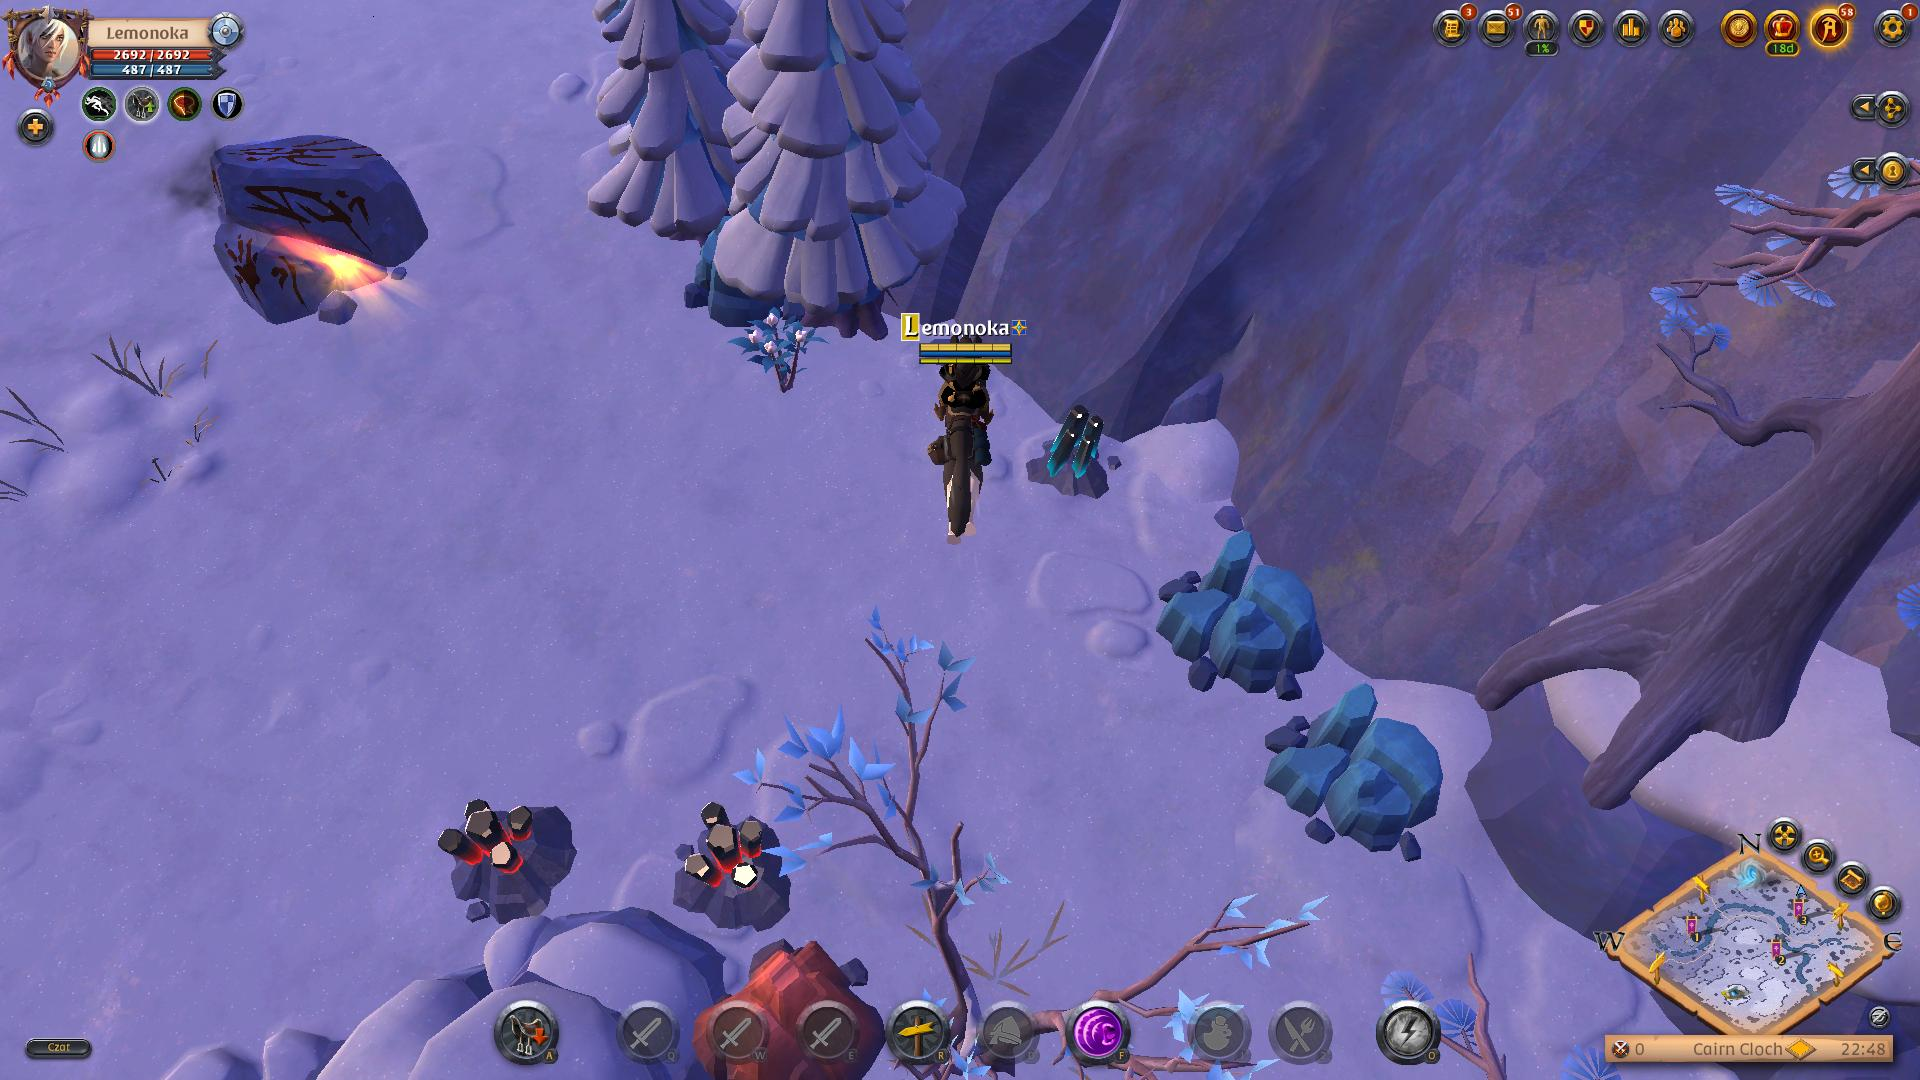fiber tier 4: (735, 310, 822, 393)
ore tier 4: (1040, 405, 1118, 506)
ore tier 5: (423, 799, 580, 920), (670, 803, 794, 928)
rock tier 4: (1262, 684, 1447, 852), (1156, 530, 1327, 699)
rock tier 5: (711, 935, 865, 1080)
